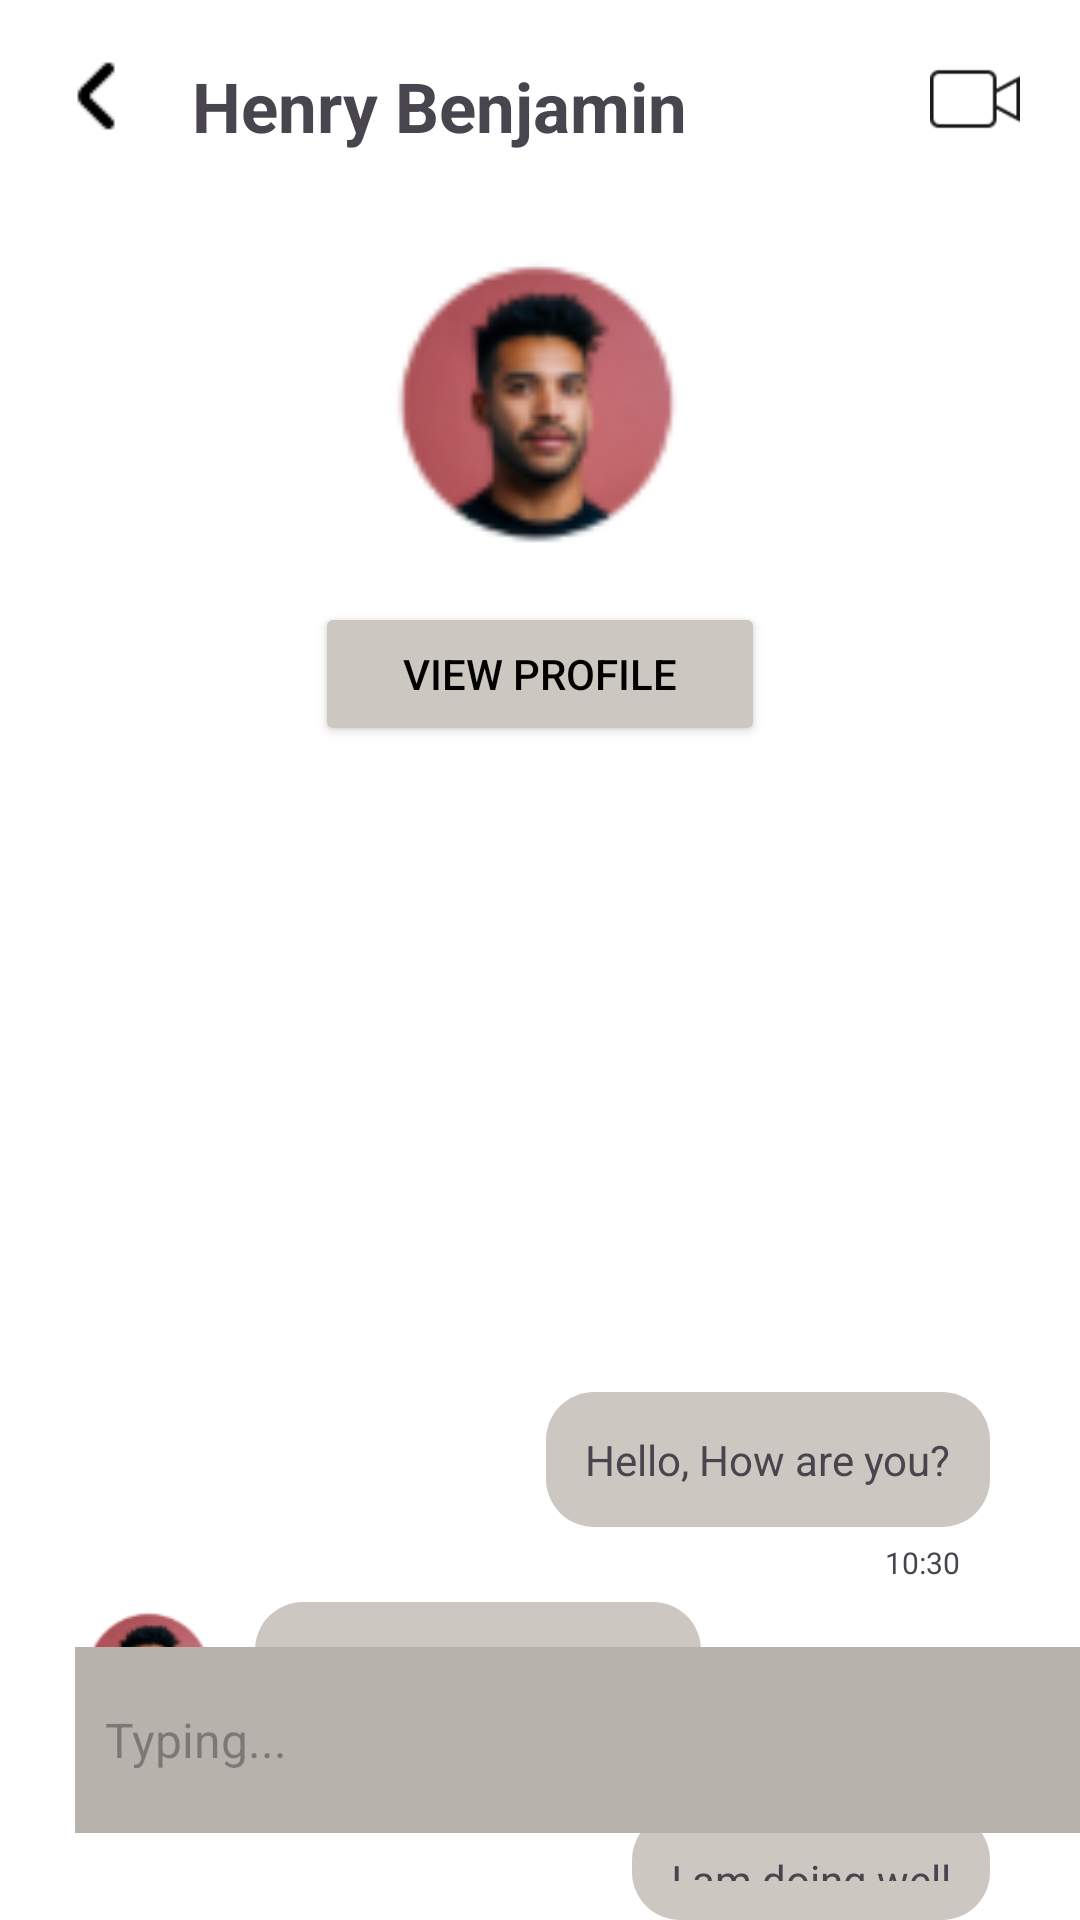

Icon click points for this 1080px x 1920px phone screenshot, format point (x, y):
back: point (96, 96)
vidcallblack: point (975, 99)
